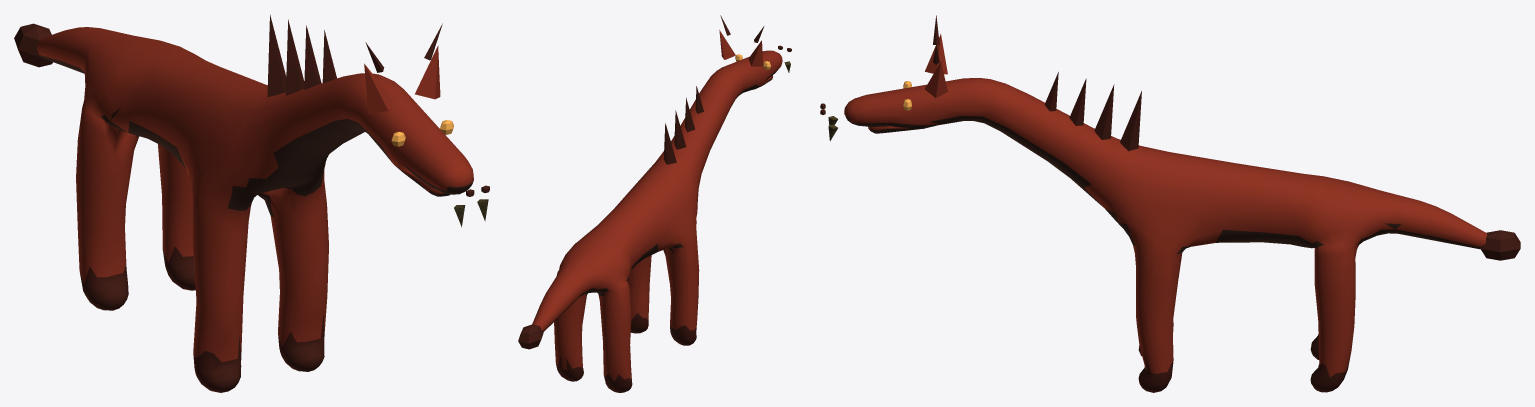
File: pet_pt_jeoktoma.glb
3 renders of one model, left to right at view 1: azimuth 30°, elevation 25°; view 2: azimuth 150°, elevation 25°; view 3: azimuth 270°, elevation 25°, orthographic. The views are drawn at different scales.
Visible parts, largest first — view 1: pet_pt_jeoktoma; view 2: pet_pt_jeoktoma; view 3: pet_pt_jeoktoma.
Boxes of the visible parts, <box> form: pet_pt_jeoktoma: <box>14,14,489,392</box>; pet_pt_jeoktoma: <box>518,15,791,392</box>; pet_pt_jeoktoma: <box>820,15,1520,392</box>.
Bounding box in the file's own units: 0.3797 × 1.29 × 2.36.
Materials: 5 (5 with a texture image).
